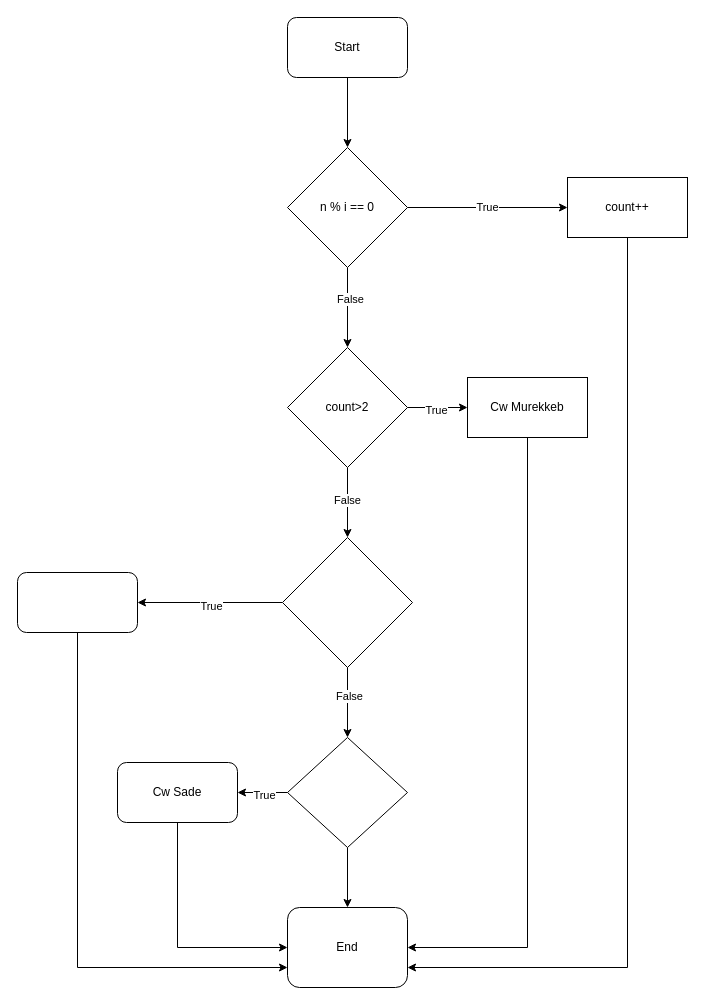
Some shapes in this 705 by 1005 pixel diagram are drawn without their labels. Here are the shapes that lost their labels. From the top down, the centre of each, then its label:
At point 77,602: "Cw 0 ve 1 olmaz".
At point 347,602: "n == 0 || n == 1".
At point 347,792: "else".
